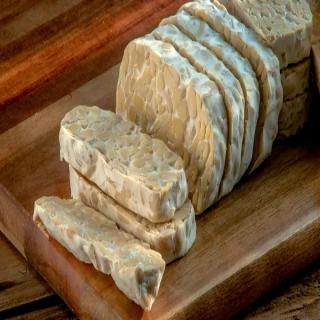Tempe: (186, 1, 284, 176), (33, 195, 167, 313), (60, 104, 190, 224), (68, 165, 198, 265), (226, 1, 314, 70), (308, 1, 320, 93)
